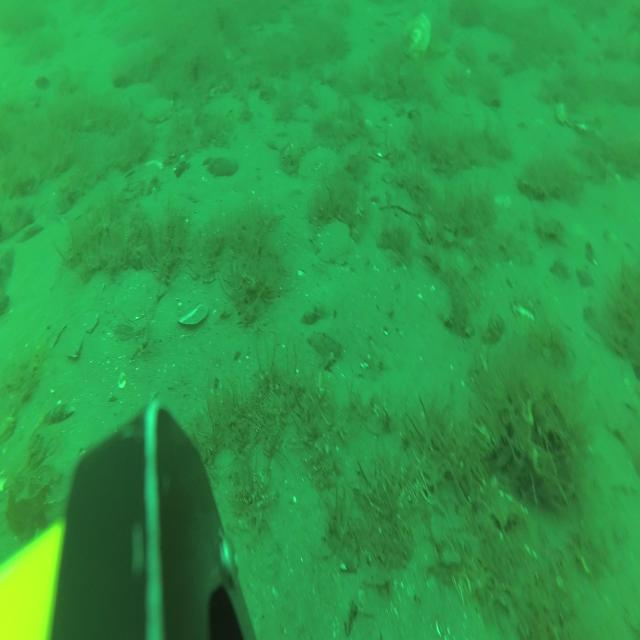scallop: (116, 267, 167, 314), (315, 222, 354, 264), (556, 102, 598, 134), (404, 14, 430, 60), (144, 95, 174, 122)
